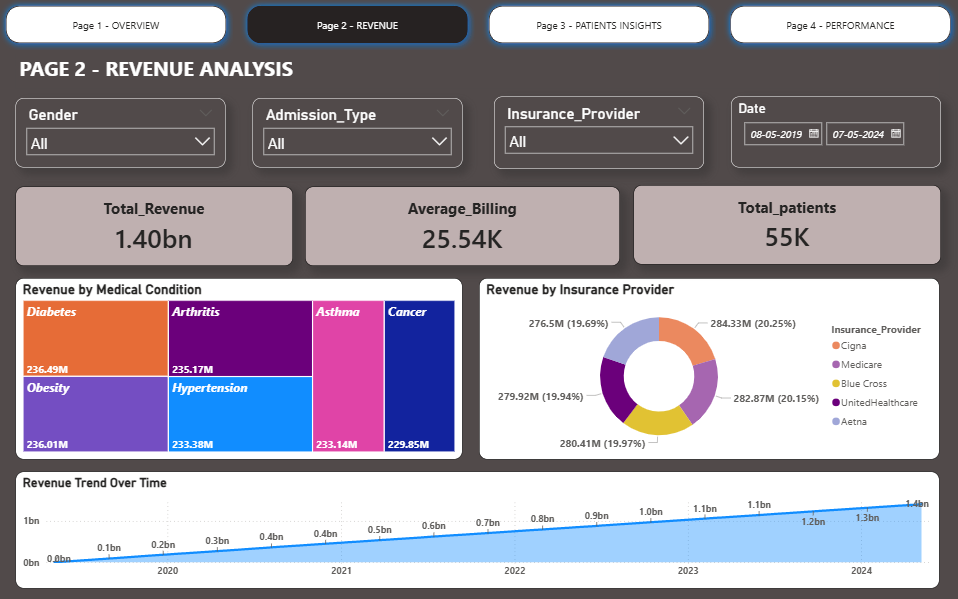

What the dashboard file says about the page in this screenshot:
{"tool":"powerbi","page":{"name":"Page 2 - REVENUE","canvas":[1280,800],"ordinal":1},"visuals":[{"type":"slicer","fields":{"Values":["healthcare_data.Gender"]},"box":[22.7,132.3,279.7,92.6],"z":0},{"type":"slicer","fields":{"Values":["healthcare_data.Admission_Type"]},"box":[338.3,132.3,279.7,92.6],"z":1000},{"type":"slicer","fields":{"Values":["healthcare_data.Insurance_Provider"]},"box":[659.5,130.4,279.7,96.4],"z":2000},{"type":"slicer","title":"Date","fields":{"Values":["Calendar.Date"]},"box":[975.1,130.4,279.7,94.5],"z":3000},{"type":"cardVisual","fields":{"Data":["healthcare_data.Total_Revenue"]},"box":[22,250,370,106],"z":4000},{"type":"cardVisual","fields":{"Data":["healthcare_data.Average_Billing"]},"box":[408,250,420,106],"z":5000},{"type":"treemap","title":"Revenue by Medical Condition","fields":{"Group":["healthcare_data.Medical_Condition"],"Values":["healthcare_data.Total_Revenue"]},"box":[22,372,596,242],"z":6000},{"type":"textbox","box":[22.7,68,1232.1,51],"z":7000},{"type":"donutChart","title":"Revenue by Insurance Provider","fields":{"Category":["healthcare_data.Insurance_Provider"],"Y":["healthcare_data.Total_Revenue"]},"box":[640,372,614,242],"z":8000},{"type":"lineChart","title":"Revenue Trend Over Time","fields":{"Category":["Calendar.Date.Variation.Date Hierarchy.Year"],"Y":["Sum(RUN_REVENUE.running_revenue)"]},"box":[22,630,1232,156],"z":9000},{"type":"pageNavigator","box":[0,0,1279.4,68],"z":10000},{"type":"cardVisual","fields":{"Data":["healthcare_data.Total_patients"]},"box":[846,248,410,106],"z":11000}]}

Visuals, with their boxes in screenshot pixels (x1, y1, x2, y2), scaled from the page's 1280x800 canvas onto the 958x599 screenshot:
slicer - healthcare_data.Gender: (17, 99, 226, 168)
slicer - healthcare_data.Admission_Type: (253, 99, 463, 168)
slicer - healthcare_data.Insurance_Provider: (494, 98, 703, 170)
"Date" slicer: (730, 98, 939, 168)
cardVisual - healthcare_data.Total_Revenue: (16, 187, 293, 267)
cardVisual - healthcare_data.Average_Billing: (305, 187, 620, 267)
"Revenue by Medical Condition" treemap: (16, 279, 463, 460)
textbox: (17, 51, 939, 89)
"Revenue by Insurance Provider" donutChart: (479, 279, 939, 460)
"Revenue Trend Over Time" lineChart: (16, 472, 939, 589)
pageNavigator: (0, 0, 957, 51)
cardVisual - healthcare_data.Total_patients: (633, 186, 940, 265)
